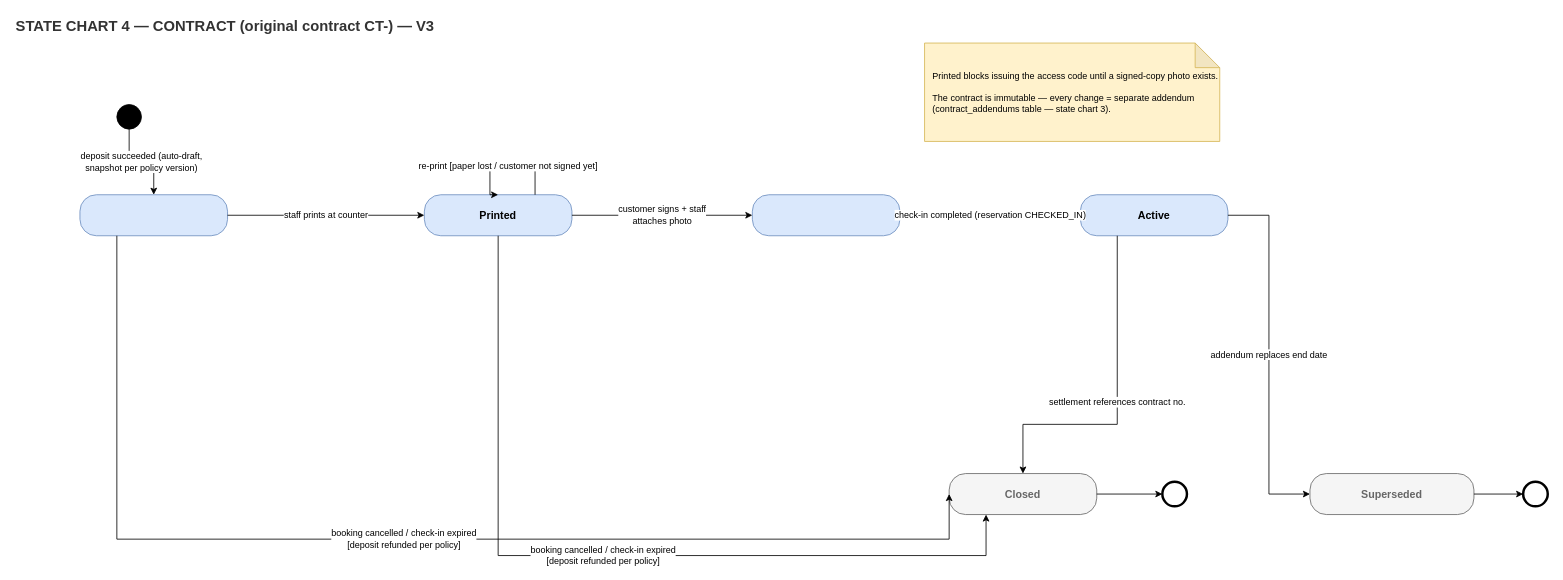
Image size: 1563x580. Some labels were removed from this diagram. The shapes that lost their labels are listed below. From the top down, each one's centre as x and y in pixels, then its label:
At (x=153, y=215): "Draft".
At (x=826, y=215): "Signed".
